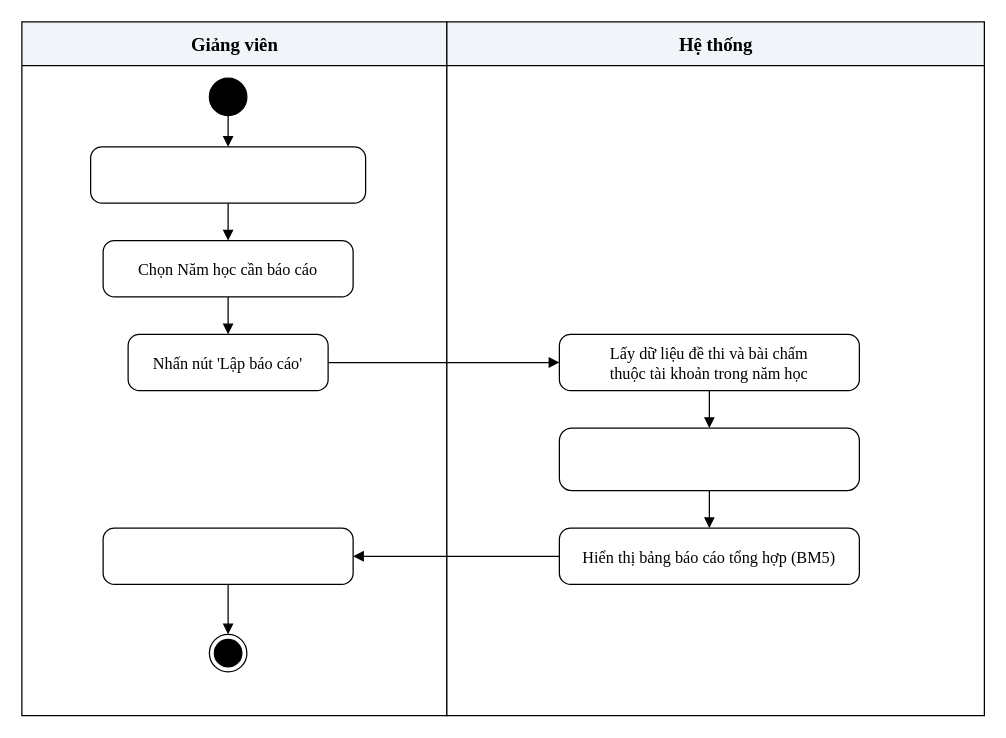
Image size: 1006x738. Some labels were removed from this diagram. The shapes that lost their labels are listed below. From the top down, each one's centre as x and y in pixels, then its label:
(227,174): Chọn chức năng LẬP BÁO CÁO NĂM
(708,459): Tính tổng số đề, tổng số bài chấm và tỷ lệ từng môn theo CT (1.1) & (1.2)
(227,555): Xem báo cáo hoặc xuất in
